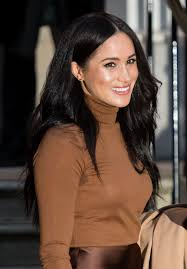black_female: (47, 14, 158, 110)
